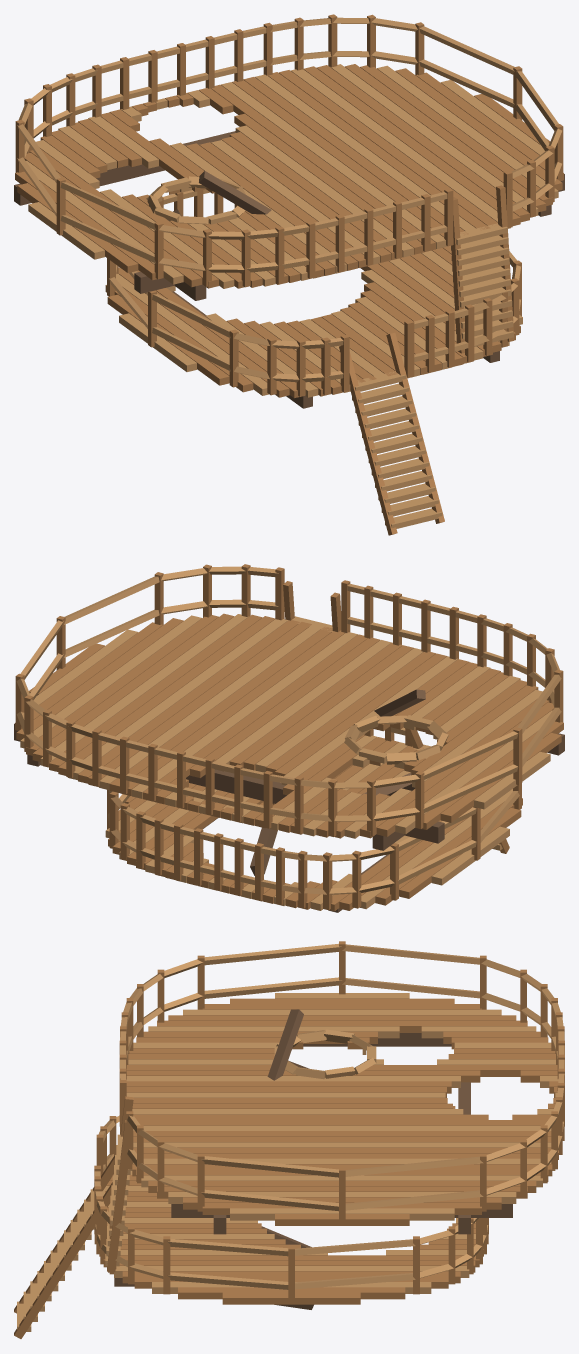
File: branch_platforms.glb
3 renders of one model, top to bottom at view 1: azimuth 30°, elevation 25°; view 2: azimuth 150°, elevation 25°; view 3: azimuth 270°, elevation 25°, orthographic.
Visible parts, largest first — view 1: RingPlank53, RingPlank52, RingPlank47, RingPlank54, RingPlank46, RingPlank51, RingPlank50, RingPlank55, RingPlank48, RingPlank49, RingPlank57, RingPlank56 (+62 smaller); view 2: RingPlank47, RingPlank50, RingPlank49, RingPlank52, RingPlank46, RingPlank48, RingPlank51, RingPlank53, RingPlank55, RingPlank54, RingPlank45, RingPlank57 (+96 smaller); view 3: RingPlank49, RingPlank6, RingPlank51, RingPlank46, RingPlank47, RingPlank48, RingPlank50, RingPlank56, RingPlank4, RingPlank45, RingPlank57, RingPlank5 (+71 smaller).
Part boxes in pixels (box(x1,y1,x2,y2)): RingPlank53: box(290, 69, 510, 228); RingPlank52: box(278, 70, 498, 225); RingPlank47: box(221, 82, 447, 248); RingPlank54: box(303, 66, 520, 225); RingPlank46: box(211, 84, 435, 251); RingPlank51: box(268, 72, 490, 230); RingPlank50: box(255, 74, 479, 233); RingPlank55: box(316, 65, 529, 222); RingPlank48: box(232, 80, 453, 246); RingPlank49: box(243, 77, 468, 235); RingPlank57: box(344, 64, 546, 212); RingPlank56: box(330, 64, 538, 215); RingPlank47: box(131, 632, 357, 798); RingPlank50: box(99, 624, 323, 790); RingPlank49: box(109, 626, 332, 792); RingPlank52: box(78, 620, 299, 783); RingPlank46: box(143, 634, 367, 801); RingPlank48: box(121, 630, 344, 795); RingPlank51: box(88, 622, 311, 786); RingPlank53: box(68, 619, 287, 780); RingPlank55: box(49, 614, 262, 771); RingPlank54: box(58, 616, 275, 775); RingPlank45: box(190, 637, 379, 777); RingPlank57: box(32, 613, 234, 761); RingPlank49: box(133, 1136, 551, 1142); RingPlank6: box(157, 1020, 527, 1032); RingPlank51: box(133, 1147, 558, 1159); RingPlank46: box(137, 1120, 547, 1125); RingPlank47: box(133, 1125, 551, 1130); RingPlank48: box(133, 1131, 551, 1136); RingPlank50: box(133, 1142, 551, 1147); RingPlank56: box(141, 1175, 542, 1187); RingPlank4: box(183, 1009, 501, 1015); RingPlank45: box(133, 1114, 488, 1119); RingPlank57: box(148, 1181, 536, 1192); RingPlank5: box(168, 1015, 516, 1020).
Size of the model in its own units: 12.86 by 7.49 by 13.06.
